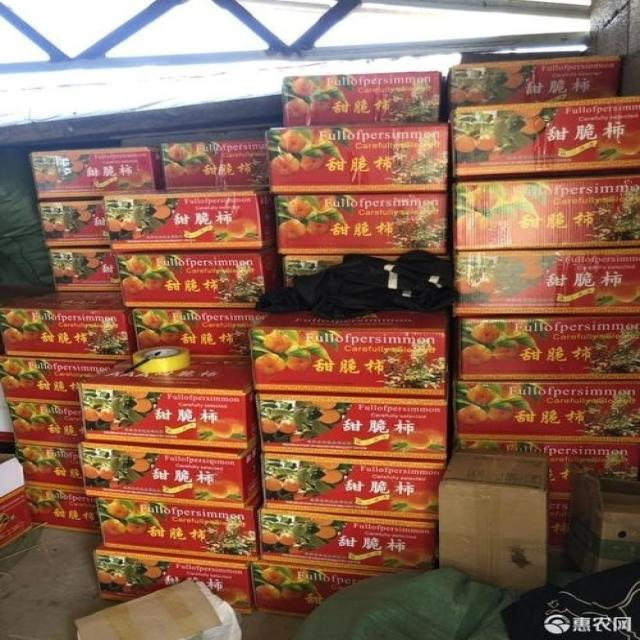box: (252, 312, 456, 395), (76, 358, 261, 447), (451, 173, 640, 254), (453, 96, 640, 177), (438, 456, 549, 589), (266, 122, 449, 196), (253, 392, 451, 459), (449, 248, 640, 316), (260, 455, 448, 522), (93, 535, 256, 612), (81, 439, 262, 508), (451, 382, 640, 448), (456, 314, 640, 380), (442, 55, 623, 120), (273, 192, 456, 256), (257, 508, 436, 571), (101, 189, 276, 253), (456, 440, 640, 499), (113, 246, 278, 309), (0, 288, 132, 362), (100, 501, 266, 559), (251, 563, 422, 619), (283, 71, 444, 127), (279, 256, 448, 309), (558, 474, 640, 579), (28, 145, 166, 201), (132, 309, 265, 366), (159, 136, 271, 193), (2, 358, 118, 403), (23, 483, 104, 533), (6, 400, 87, 448), (50, 246, 124, 294), (42, 198, 111, 249), (15, 439, 81, 487), (547, 498, 577, 563)
